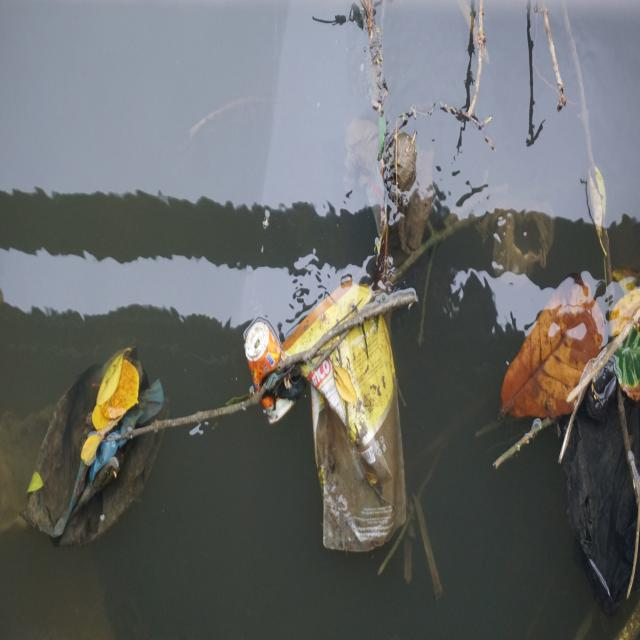Bungkus Makanan: (284, 274, 413, 557)
Bungkus Minuman: (241, 313, 301, 424)
Kantong Plastik: (23, 351, 171, 539), (568, 368, 640, 598)
